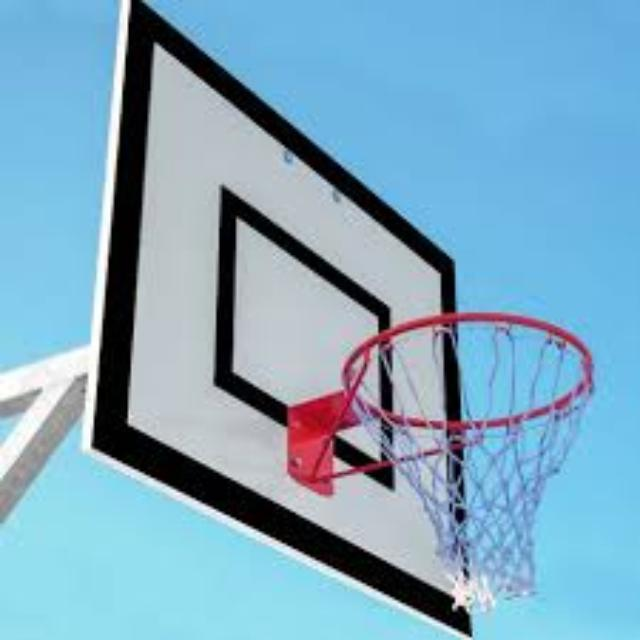rim: (344, 314, 594, 608)
